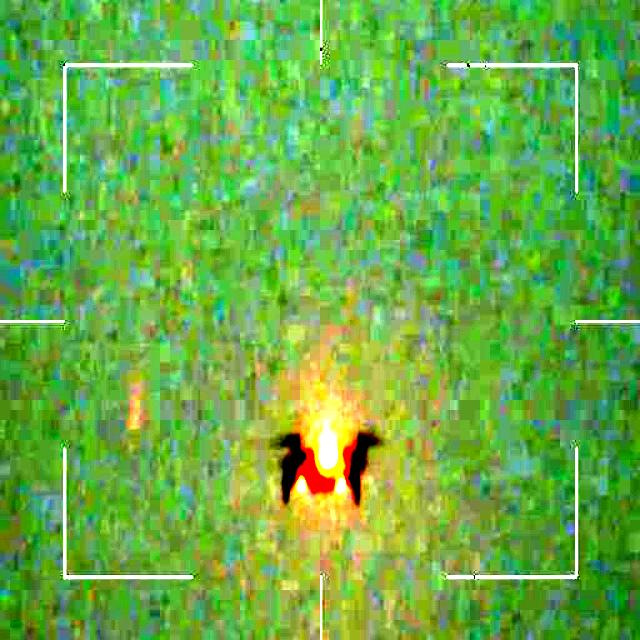bird: (276, 412, 379, 504)
